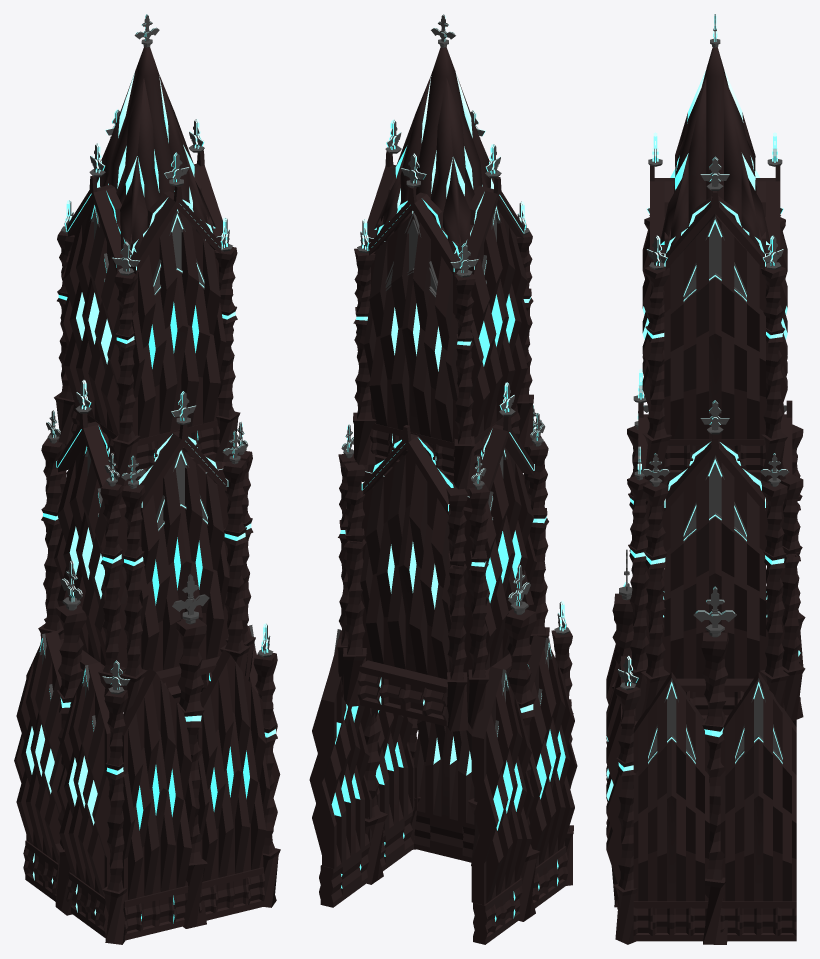
Rendered from Goth_6.glb.
3 renders of one model, left to right at view 1: azimuth 30°, elevation 25°; view 2: azimuth 150°, elevation 25°; view 3: azimuth 270°, elevation 25°, orthographic.
Parts seen in each view (by area): view 1: WallWithWindow.090, WallWithWindow.086, WallWithWindow.078, WallWithWindow.079, WallWithWindow.093, WallWithWindow.085, WallWithWindow.084, WallWithWindow.089, Roof.043, Pillar.094_Metal_0, Pillar.095_Metal_0, Roof.046 (+24 smaller); view 2: WallWithWindow.092, WallWithWindow.088, WallWithWindow.084, WallWithWindow.093, WallWithWindow.081, WallWithWindow.085, WallWithWindow.089, Roof.045, WallWithWindow.079, Pillar.109_Metal_0, Pillar.106_Metal_0, Roof.046 (+25 smaller); view 3: WallWithWindow.091, WallWithWindow.087, WallWithWindow.081, WallWithWindow.080, Roof.044, Pillar.096, Pillar.106_Metal_0, Pillar.097_Metal_0, Pillar.107, Pillar.104, Pillar.111, Pillar.105 (+27 smaller).
Boxes of the visible parts, left/top/right/bottom form: WallWithWindow.090: left=132, top=213, right=226, bottom=439; WallWithWindow.086: left=139, top=449, right=229, bottom=671; WallWithWindow.078: left=121, top=668, right=195, bottom=900; WallWithWindow.079: left=197, top=649, right=270, bottom=881; WallWithWindow.093: left=60, top=208, right=120, bottom=435; WallWithWindow.085: left=57, top=662, right=110, bottom=897; WallWithWindow.084: left=14, top=630, right=62, bottom=863; WallWithWindow.089: left=54, top=444, right=127, bottom=669; Roof.043: left=129, top=47, right=215, bottom=267; Pillar.094_Metal_0: left=176, top=618, right=207, bottom=928; Pillar.095_Metal_0: left=102, top=690, right=128, bottom=944; Roof.046: left=96, top=47, right=146, bottom=249; WallWithWindow.092: left=364, top=214, right=458, bottom=442; WallWithWindow.088: left=360, top=452, right=451, bottom=679; WallWithWindow.084: left=471, top=666, right=534, bottom=905; WallWithWindow.093: left=470, top=210, right=530, bottom=437; WallWithWindow.081: left=309, top=630, right=372, bottom=868; WallWithWindow.085: left=527, top=635, right=577, bottom=866; WallWithWindow.089: left=463, top=447, right=537, bottom=677; Roof.045: left=375, top=47, right=461, bottom=269; WallWithWindow.079: left=414, top=717, right=477, bottom=824; Pillar.109_Metal_0: left=446, top=487, right=467, bottom=731; Pillar.106_Metal_0: left=343, top=462, right=366, bottom=706; Roof.046: left=444, top=47, right=494, bottom=251; WallWithWindow.091: left=664, top=213, right=765, bottom=438; WallWithWindow.087: left=664, top=455, right=765, bottom=678; WallWithWindow.081: left=720, top=672, right=796, bottom=901; WallWithWindow.080: left=633, top=672, right=709, bottom=901; Roof.044: left=663, top=47, right=766, bottom=263; Pillar.096: left=701, top=632, right=728, bottom=944; Pillar.106_Metal_0: left=780, top=474, right=805, bottom=721; Pillar.097_Metal_0: left=613, top=686, right=640, bottom=944; Pillar.107: left=760, top=483, right=789, bottom=709; Pillar.104: left=641, top=483, right=669, bottom=711; Pillar.111: left=642, top=266, right=671, bottom=482; Pillar.105: left=627, top=476, right=650, bottom=721.
Size of the model in its own units: 1500 by 6760 by 1373.
